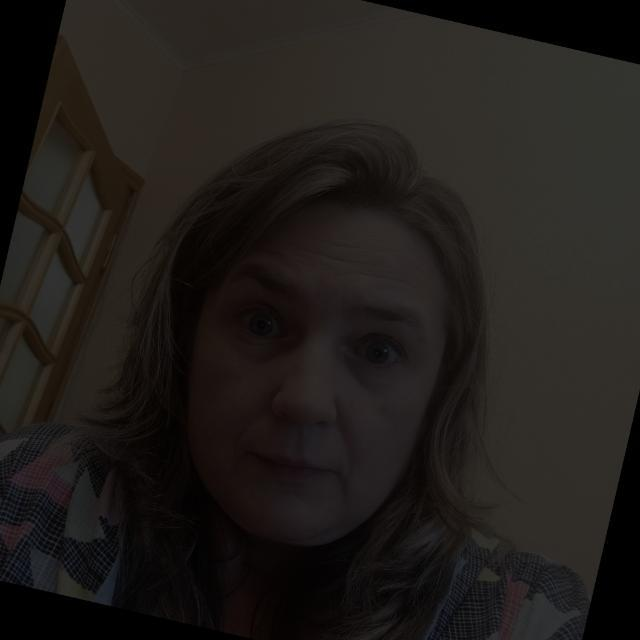Surprised: (106, 95, 482, 581)
